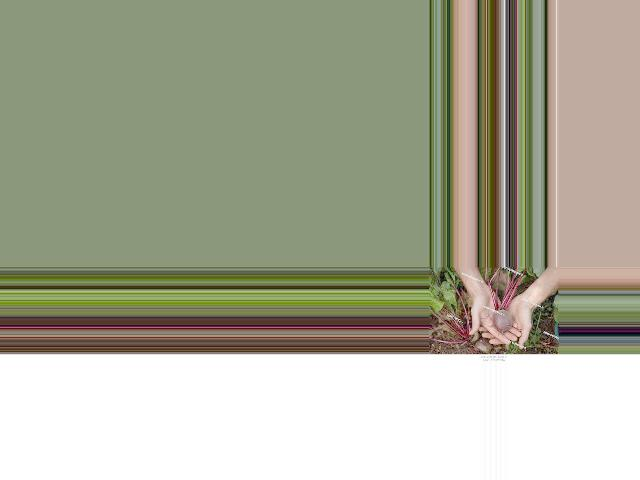beet: (487, 269, 526, 334)
